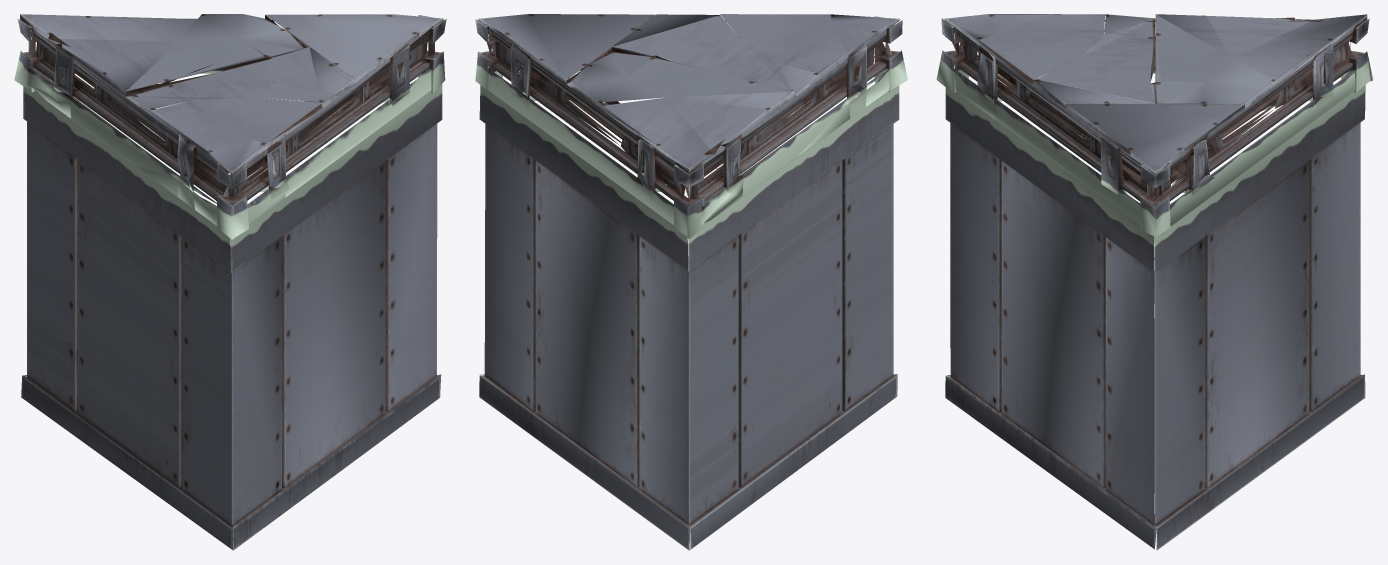
File: BP_TriFoundation_Metal_C.glb
The picture shows the model from 3 angles, left to right: view 1: azimuth 30°, elevation 25°; view 2: azimuth 150°, elevation 25°; view 3: azimuth 270°, elevation 25°; orthographic projection.
Parts seen in each view (by area): view 1: SM_Metal_FloorTriangle; view 2: SM_Metal_FloorTriangle; view 3: SM_Metal_FloorTriangle.
Part boxes in pixels (x1,y1,x2,y2): SM_Metal_FloorTriangle: [14, 14, 446, 550]; SM_Metal_FloorTriangle: [475, 14, 907, 550]; SM_Metal_FloorTriangle: [936, 14, 1373, 550].
Size of the model in its own units: 2.67 by 3.05 by 3.09.
Materials: 1 (1 with a texture image).
